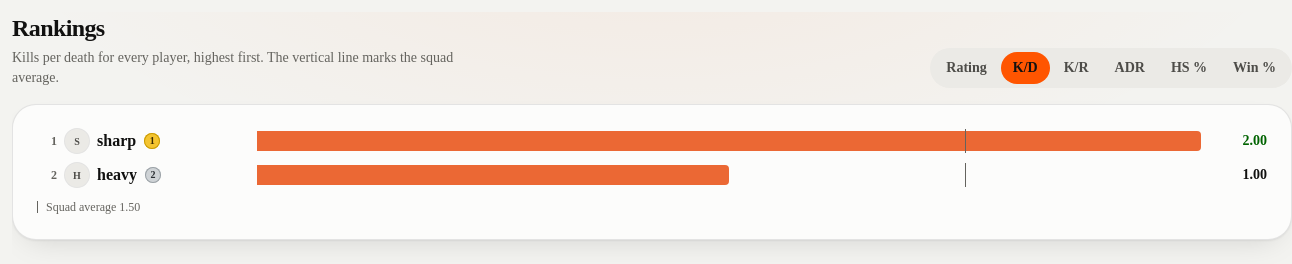
Test: Rankings › ranks players by the chosen metric against the squad average
The width and height of the screenshot is (1292, 264).
Expected: the text "Squad average 1.50" is shown, [46,200,140,214]
Click the radio button labelled "ADR" at (1130,68), box [1114,60,1145,75]
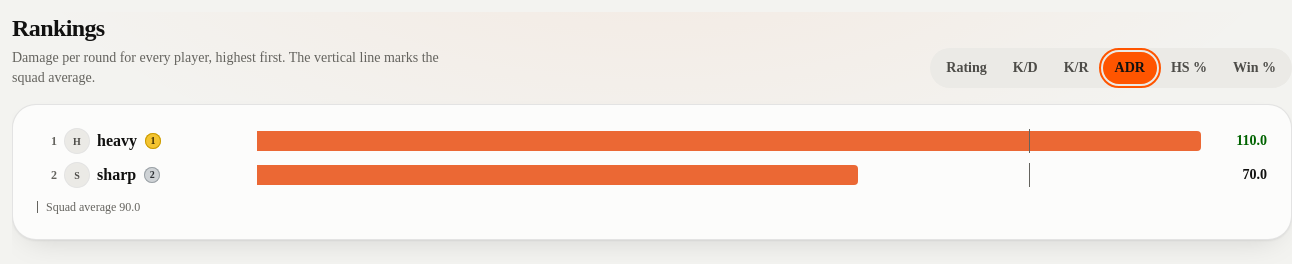
Expected: the text "Squad average 90.0" is shown, [46,200,140,214]
